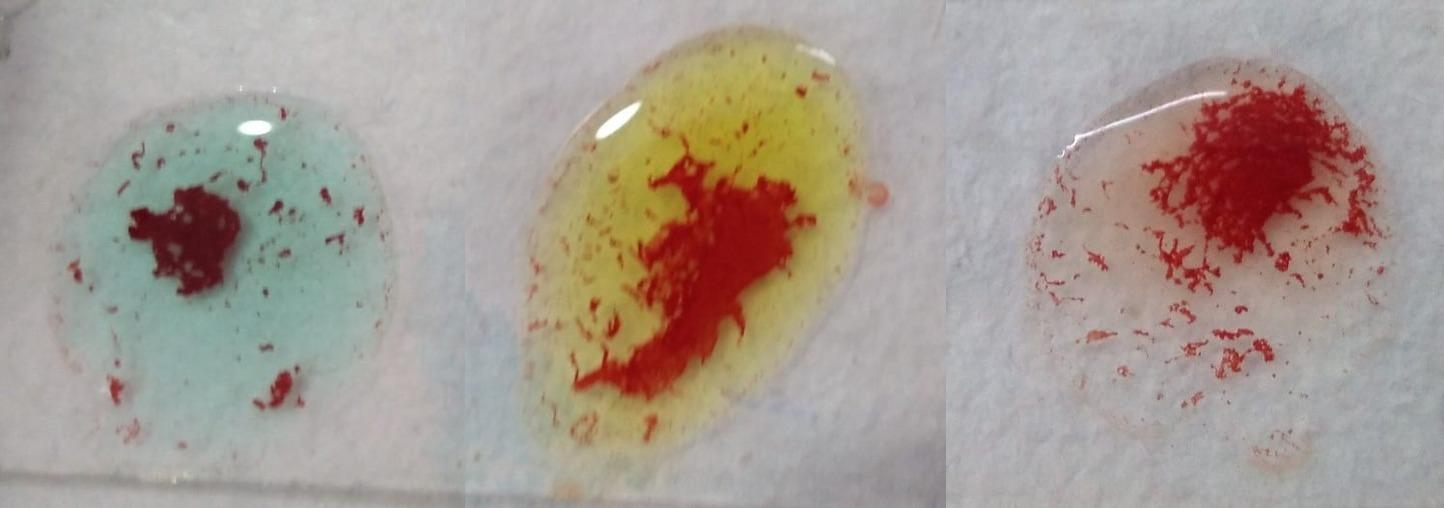A: (56, 90, 399, 462)
B: (543, 27, 850, 461)
D: (1042, 46, 1397, 434)
